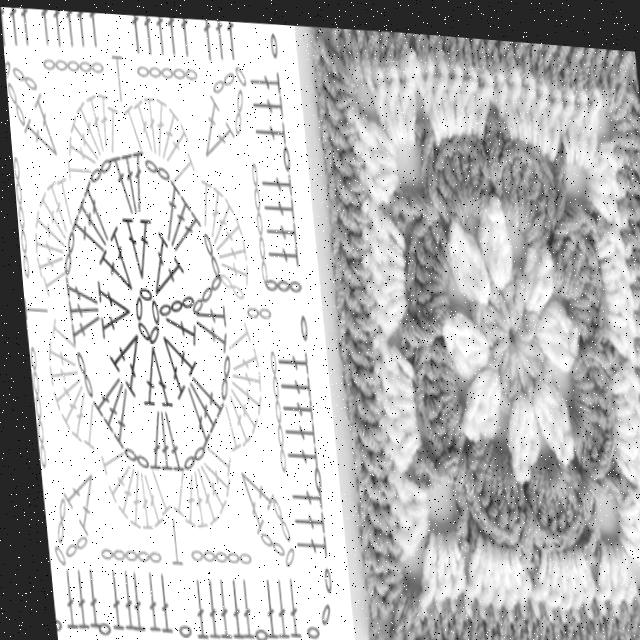ch: (311, 20, 322, 35), (359, 614, 365, 640)
dc: (444, 216, 483, 291), (528, 379, 569, 445), (362, 59, 396, 138), (311, 29, 356, 82), (344, 101, 394, 147), (520, 152, 549, 231), (459, 364, 493, 431), (448, 214, 482, 281), (528, 384, 561, 453), (386, 181, 436, 226), (541, 453, 571, 527), (544, 448, 575, 517), (549, 191, 602, 231), (405, 438, 453, 482), (453, 521, 477, 609), (565, 403, 603, 458), (437, 133, 465, 207), (357, 193, 402, 239), (555, 234, 594, 287), (415, 110, 437, 202), (398, 42, 419, 138), (548, 73, 574, 150), (405, 228, 444, 279), (415, 383, 453, 435), (517, 140, 539, 228), (410, 210, 445, 265), (564, 407, 595, 469), (567, 394, 606, 443), (604, 435, 640, 488), (445, 237, 479, 293), (468, 529, 490, 615), (433, 150, 461, 217), (535, 70, 559, 148), (457, 360, 489, 417), (368, 326, 407, 372), (481, 189, 501, 278), (539, 457, 560, 541), (581, 180, 624, 221), (577, 84, 600, 160), (563, 75, 585, 154), (571, 472, 592, 554), (461, 435, 485, 505), (358, 221, 400, 261), (605, 532, 632, 594), (523, 238, 549, 302), (344, 435, 386, 474), (467, 444, 487, 525), (519, 540, 542, 610), (495, 446, 513, 535), (374, 425, 414, 465), (436, 524, 455, 608), (324, 188, 366, 226), (383, 510, 420, 553), (313, 56, 357, 92), (556, 225, 583, 283), (608, 40, 632, 105), (471, 59, 493, 129), (489, 186, 507, 271), (424, 395, 454, 446), (528, 173, 551, 239), (483, 112, 506, 178), (354, 162, 395, 199), (326, 215, 367, 252), (534, 457, 552, 541), (332, 21, 360, 75), (395, 307, 430, 350), (332, 302, 375, 337), (449, 128, 468, 207), (507, 384, 523, 477), (364, 290, 402, 329), (475, 201, 493, 283), (426, 50, 444, 132), (351, 133, 393, 168), (358, 575, 393, 617), (457, 428, 481, 489), (434, 51, 453, 128), (438, 305, 481, 339), (576, 331, 614, 369), (482, 535, 500, 615), (324, 163, 364, 199), (566, 385, 608, 419), (565, 536, 585, 607), (316, 84, 359, 117), (530, 329, 568, 366), (584, 129, 621, 167), (351, 489, 388, 527), (338, 351, 375, 389), (551, 221, 574, 282), (602, 315, 637, 355), (417, 66, 437, 136), (575, 458, 620, 489), (531, 370, 561, 416), (350, 515, 393, 547), (548, 135, 563, 226), (372, 405, 412, 439), (610, 510, 640, 555), (472, 372, 495, 430), (441, 336, 484, 367), (403, 273, 442, 307), (584, 530, 601, 608), (557, 257, 597, 290), (402, 248, 442, 281), (425, 522, 441, 604), (505, 333, 528, 390), (356, 247, 401, 276), (349, 463, 387, 497), (382, 491, 421, 524), (321, 138, 360, 171), (588, 218, 628, 250), (331, 277, 371, 309), (531, 315, 575, 344), (508, 493, 527, 560), (409, 358, 451, 388), (413, 334, 450, 368), (385, 61, 402, 135), (597, 534, 614, 608), (319, 112, 356, 146), (518, 460, 534, 538), (410, 522, 426, 600), (535, 542, 552, 615), (409, 343, 449, 374), (514, 132, 528, 220), (488, 447, 502, 535), (409, 381, 450, 411), (499, 385, 516, 457), (341, 383, 377, 417), (329, 246, 366, 279), (600, 291, 638, 323), (494, 542, 511, 613), (376, 583, 397, 640), (508, 335, 544, 368), (341, 22, 363, 76), (524, 260, 550, 305), (492, 145, 510, 210), (421, 211, 447, 256), (354, 538, 393, 568), (458, 129, 473, 206), (437, 320, 485, 344), (412, 284, 444, 320), (557, 539, 573, 611), (504, 59, 520, 131), (360, 271, 401, 299), (478, 446, 491, 534), (507, 326, 545, 356), (355, 562, 393, 592), (334, 330, 372, 360), (516, 63, 533, 130), (506, 129, 519, 216), (446, 444, 459, 531), (584, 159, 623, 188), (529, 71, 546, 137), (532, 294, 572, 322), (448, 52, 463, 126), (370, 382, 409, 410), (500, 448, 516, 516), (549, 543, 565, 611), (612, 73, 639, 113), (343, 415, 380, 444), (380, 466, 418, 494), (564, 302, 603, 329), (598, 269, 634, 298), (507, 252, 521, 326), (567, 372, 604, 400), (519, 239, 537, 296), (401, 586, 420, 640), (388, 583, 406, 640), (596, 243, 631, 272), (498, 131, 511, 209), (613, 157, 640, 194), (564, 272, 597, 302), (607, 429, 640, 459), (530, 460, 542, 542), (604, 357, 639, 384), (613, 135, 640, 170), (609, 501, 640, 531), (602, 39, 618, 96), (462, 58, 475, 127), (467, 297, 502, 322), (564, 291, 600, 315), (434, 180, 458, 216), (429, 587, 445, 640), (610, 477, 640, 505), (491, 52, 505, 112), (394, 25, 411, 74), (493, 333, 505, 402), (607, 409, 640, 434), (444, 585, 459, 640), (568, 355, 601, 379), (607, 386, 640, 410), (611, 119, 640, 146), (417, 589, 432, 640), (508, 303, 534, 332), (527, 593, 543, 640), (475, 134, 485, 209), (610, 101, 640, 126), (556, 36, 570, 89), (498, 262, 511, 319), (522, 387, 532, 461), (485, 274, 503, 315), (471, 30, 486, 79), (614, 185, 640, 213), (471, 313, 504, 335), (365, 23, 379, 73), (510, 557, 522, 615), (379, 24, 394, 70), (500, 32, 514, 81), (582, 591, 596, 640), (570, 37, 584, 85), (503, 337, 514, 398), (607, 589, 620, 640), (542, 35, 555, 85), (468, 131, 477, 203), (568, 594, 582, 640), (503, 594, 517, 640), (482, 327, 504, 356), (492, 146, 503, 203), (427, 27, 443, 66), (412, 26, 428, 65), (514, 33, 530, 72), (620, 588, 632, 640), (517, 588, 529, 640), (595, 589, 607, 640), (460, 593, 473, 640), (594, 38, 606, 88), (567, 348, 594, 370), (628, 592, 640, 640), (484, 31, 498, 72), (618, 213, 640, 239), (355, 23, 370, 61), (489, 600, 503, 640), (423, 299, 445, 324), (475, 601, 489, 640), (564, 340, 584, 366), (443, 28, 456, 67), (544, 599, 556, 640), (456, 29, 470, 64), (531, 34, 542, 77), (556, 602, 568, 640), (580, 37, 592, 74), (586, 38, 596, 82), (623, 239, 640, 264), (626, 269, 640, 294), (628, 319, 640, 344), (628, 349, 640, 371), (629, 295, 640, 317)
